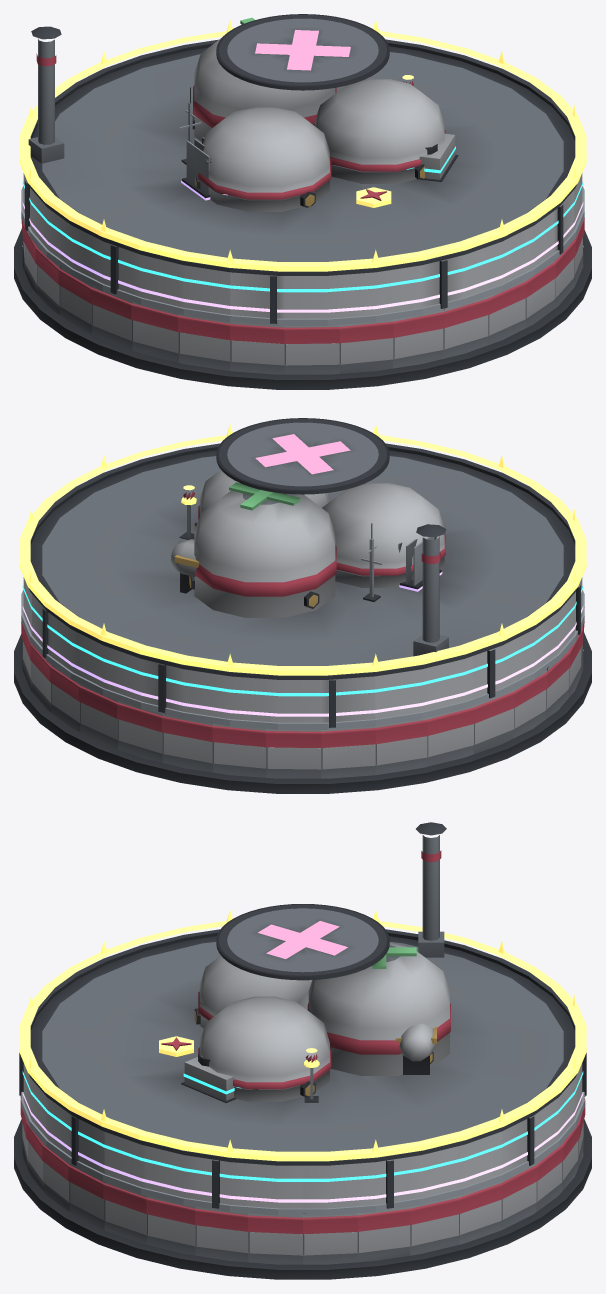
File: bio_lab_m_far.glb
The picture shows the model from 3 angles, top to bottom: view 1: azimuth 30°, elevation 25°; view 2: azimuth 150°, elevation 25°; view 3: azimuth 270°, elevation 25°; orthographic projection.
Visible parts, largest first — view 1: Roof, Base, L5, L2, L3, L4; view 2: Roof, Base, L5, L2, L4, L3; view 3: Roof, Base, L5, L2, L3, L4.
Boxes of the visible parts, bbox=[...] form: Roof: bbox=[23, 14, 582, 323]; Base: bbox=[14, 218, 591, 389]; L5: bbox=[19, 20, 586, 271]; L2: bbox=[21, 87, 584, 325]; L3: bbox=[22, 123, 583, 292]; L4: bbox=[22, 137, 583, 312]; Roof: bbox=[23, 418, 582, 727]; Base: bbox=[14, 622, 591, 793]; L5: bbox=[19, 424, 586, 675]; L2: bbox=[21, 523, 584, 729]; L4: bbox=[22, 537, 583, 716]; L3: bbox=[22, 585, 583, 696]; Roof: bbox=[19, 822, 586, 1208]; Base: bbox=[14, 1096, 591, 1279]; L5: bbox=[19, 910, 586, 1161]; L2: bbox=[21, 1092, 584, 1215]; L3: bbox=[22, 1054, 583, 1181]; L4: bbox=[22, 1023, 583, 1202].
Size of the model in its own units: 13.25 by 6.1 by 13.25.
